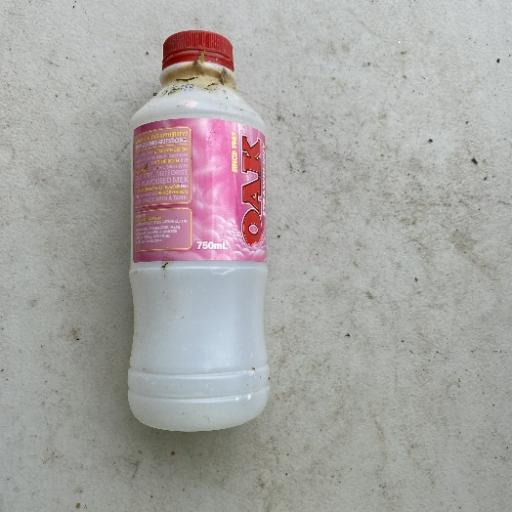Plastic: (122, 27, 275, 433)
